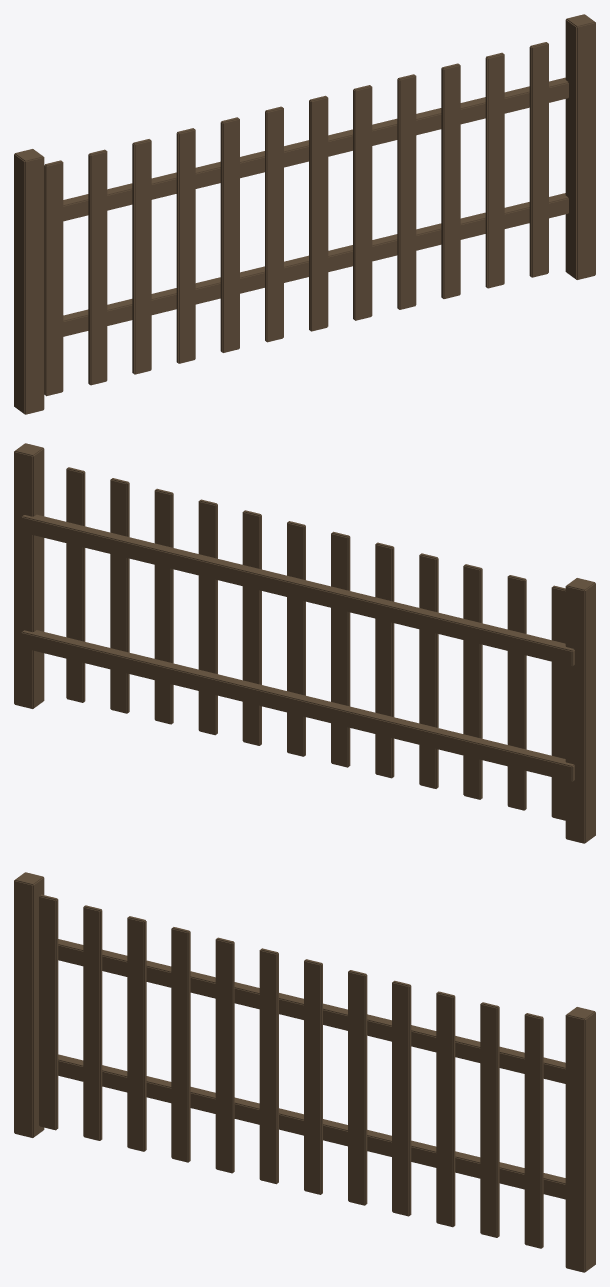
Rendered from fence_low_picket.glb.
3 views of the same model, one above another, from view 1: azimuth 30°, elevation 25°; view 2: azimuth 150°, elevation 25°; view 3: azimuth 330°, elevation 25° (orthographic).
Visible parts, largest first — view 1: ok_mesh; view 2: ok_mesh; view 3: ok_mesh.
Boxes of the visible parts, left/top/right/bottom form: ok_mesh: left=14, top=14, right=595, bottom=414; ok_mesh: left=14, top=443, right=595, bottom=843; ok_mesh: left=14, top=872, right=595, bottom=1272.
Size of what is drawn, in the model's own units: 2.59 by 1.1 by 0.11.
